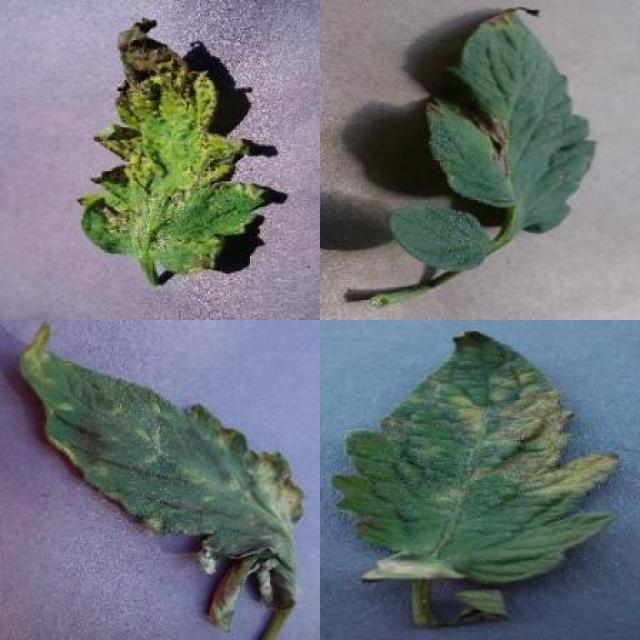Early Blight: (424, 8, 599, 232)
Healthy: (389, 204, 490, 274)
Leaf Mold: (17, 321, 306, 633), (331, 327, 618, 583)
Septoria: (77, 17, 266, 272)
